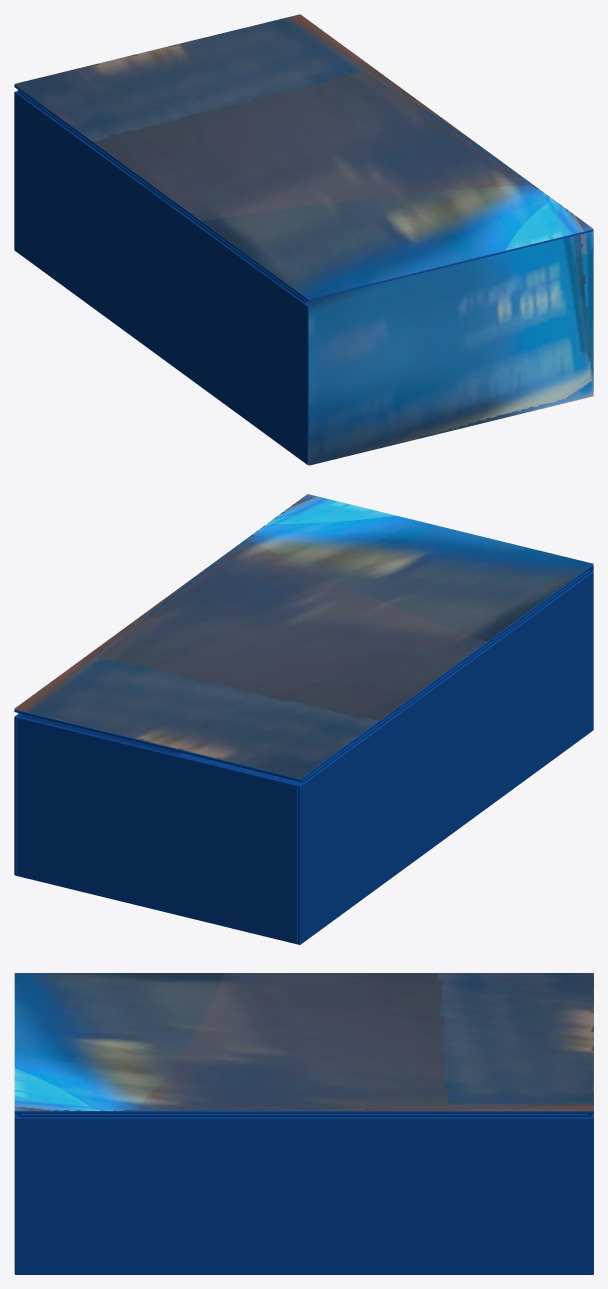
3 renders of one model, top to bottom at view 1: azimuth 30°, elevation 25°; view 2: azimuth 150°, elevation 25°; view 3: azimuth 270°, elevation 25°, orthographic.
Visible parts, largest first — view 1: blue_flat_carton__body, blue_flat_carton__flap_front, blue_flat_carton__flap_back, blue_flat_carton__flap_left; view 2: blue_flat_carton__body, blue_flat_carton__flap_back, blue_flat_carton__flap_front, blue_flat_carton__flap_left; view 3: blue_flat_carton__body, blue_flat_carton__flap_front, blue_flat_carton__flap_back, blue_flat_carton__flap_right.
Boxes of the visible parts, <box> form: blue_flat_carton__body: <box>14,91,593,465</box>; blue_flat_carton__flap_front: <box>161,122,593,301</box>; blue_flat_carton__flap_back: <box>14,14,446,193</box>; blue_flat_carton__flap_left: <box>17,90,308,302</box>; blue_flat_carton__body: <box>14,567,593,944</box>; blue_flat_carton__flap_back: <box>14,601,446,781</box>; blue_flat_carton__flap_front: <box>161,494,593,673</box>; blue_flat_carton__flap_left: <box>233,570,590,782</box>; blue_flat_carton__body: <box>14,1113,593,1274</box>; blue_flat_carton__flap_front: <box>14,973,304,1113</box>; blue_flat_carton__flap_back: <box>304,973,593,1113</box>; blue_flat_carton__flap_right: <box>20,1113,587,1116</box>.
Bounding box in the file's own units: 0.0769 × 0.0428 × 0.1368.
3 materials, 2 textured.
